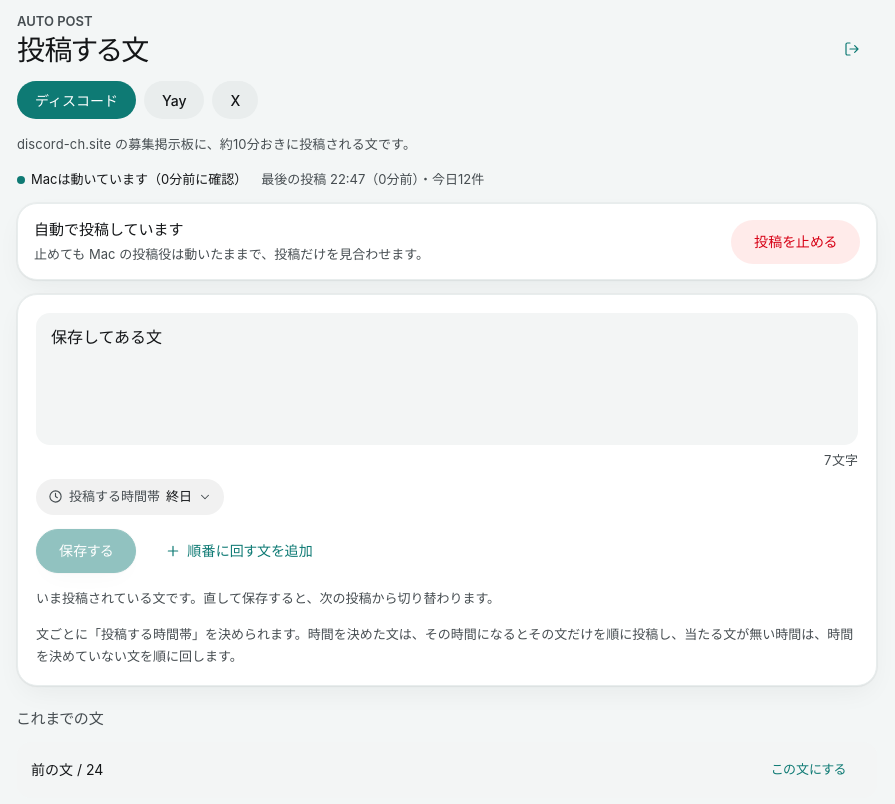
Test: AutoPostView › 投稿を止める／再開する › 止める操作が失敗したら、理由を出して、状態は変えない
Expected: the text box holds "保存してある文", [36, 313, 858, 445]
What coordinates should you click on to do the following:
click the button "投稿を止める"
I would click on:
 (795, 242)
Its box is [731, 220, 860, 264].
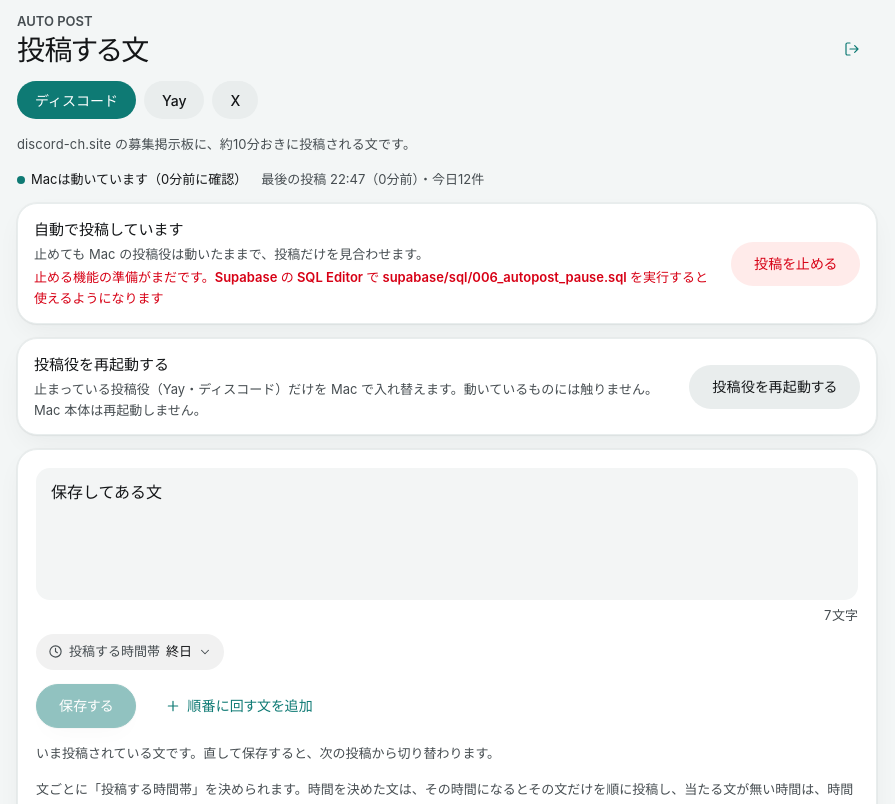
Expected: the text "自動で投稿しています" is shown, [34, 220, 184, 239]
Now the message shows "006_autopost_pause.sql", box [34, 269, 708, 306]
